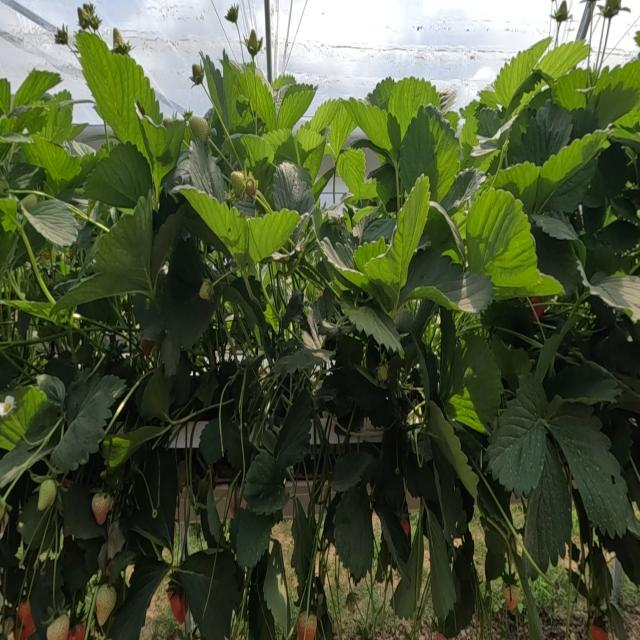Flowers: (1, 396, 14, 415)
Leaves: (549, 407, 629, 535), (78, 34, 159, 150), (367, 183, 430, 301), (53, 374, 126, 471), (487, 377, 547, 495), (466, 189, 536, 287), (159, 234, 216, 349), (524, 439, 571, 570), (93, 195, 151, 298), (537, 131, 607, 212), (399, 107, 459, 200), (178, 188, 247, 260), (404, 249, 482, 312), (427, 403, 478, 499), (110, 555, 167, 639), (450, 333, 502, 424), (128, 450, 177, 546), (320, 366, 394, 427), (84, 143, 151, 208), (438, 529, 476, 637), (495, 37, 550, 110), (334, 483, 374, 581), (201, 549, 242, 639), (516, 101, 571, 166), (222, 133, 276, 198), (432, 441, 466, 543), (1, 385, 58, 444), (393, 510, 424, 618), (345, 99, 394, 166), (426, 510, 455, 621), (533, 229, 579, 296), (275, 391, 313, 471), (596, 60, 640, 129), (545, 363, 619, 403), (176, 551, 214, 628), (22, 198, 79, 247), (342, 303, 400, 351), (151, 205, 189, 278), (483, 299, 537, 350), (244, 451, 287, 514), (248, 210, 299, 263), (389, 78, 439, 132), (493, 161, 542, 216), (33, 138, 81, 194), (102, 426, 166, 468), (374, 425, 405, 511), (232, 507, 274, 567), (61, 478, 103, 538), (202, 56, 237, 125), (189, 139, 227, 202), (423, 203, 465, 260), (141, 116, 186, 169), (264, 540, 289, 635), (534, 320, 571, 384), (18, 493, 58, 552), (0, 440, 49, 488), (37, 91, 81, 144), (471, 111, 519, 157), (375, 504, 410, 567), (222, 55, 251, 131), (273, 162, 314, 215), (241, 69, 276, 131), (589, 273, 639, 316), (591, 144, 628, 201), (292, 496, 313, 594), (336, 149, 377, 199), (440, 169, 486, 213), (325, 99, 356, 164), (50, 276, 102, 314), (404, 453, 439, 509), (539, 40, 589, 79), (329, 447, 373, 491), (295, 117, 325, 180), (59, 536, 89, 598), (140, 364, 172, 421), (13, 69, 59, 107), (490, 334, 520, 391), (320, 238, 364, 276), (278, 85, 314, 130), (30, 571, 53, 639), (263, 130, 307, 164), (274, 348, 329, 375), (596, 219, 640, 252), (0, 299, 58, 323), (133, 295, 163, 340), (532, 212, 578, 239), (205, 477, 223, 545), (309, 98, 341, 133), (171, 353, 191, 407), (485, 530, 506, 580), (200, 418, 222, 464), (312, 289, 334, 334), (367, 77, 395, 110), (37, 375, 65, 408), (6, 162, 39, 190), (584, 168, 607, 207), (280, 290, 303, 329), (161, 332, 180, 376), (362, 218, 396, 242), (461, 110, 478, 158), (225, 425, 243, 470), (195, 371, 218, 406), (478, 108, 501, 136), (437, 89, 457, 114), (0, 78, 11, 115), (0, 134, 32, 143), (321, 319, 338, 333), (245, 443, 252, 464), (475, 160, 486, 168)
Strawberries: (96, 585, 115, 627), (244, 29, 263, 62), (78, 3, 99, 32), (38, 480, 56, 511), (92, 494, 111, 523), (189, 116, 210, 142), (169, 593, 187, 623), (47, 615, 69, 639), (551, 2, 571, 28), (297, 612, 315, 639), (112, 28, 130, 55), (230, 172, 248, 197), (502, 584, 519, 610), (599, 1, 620, 22), (54, 25, 68, 46), (190, 64, 203, 86), (590, 624, 608, 639), (68, 624, 85, 639), (3, 618, 14, 638), (377, 364, 387, 380)
